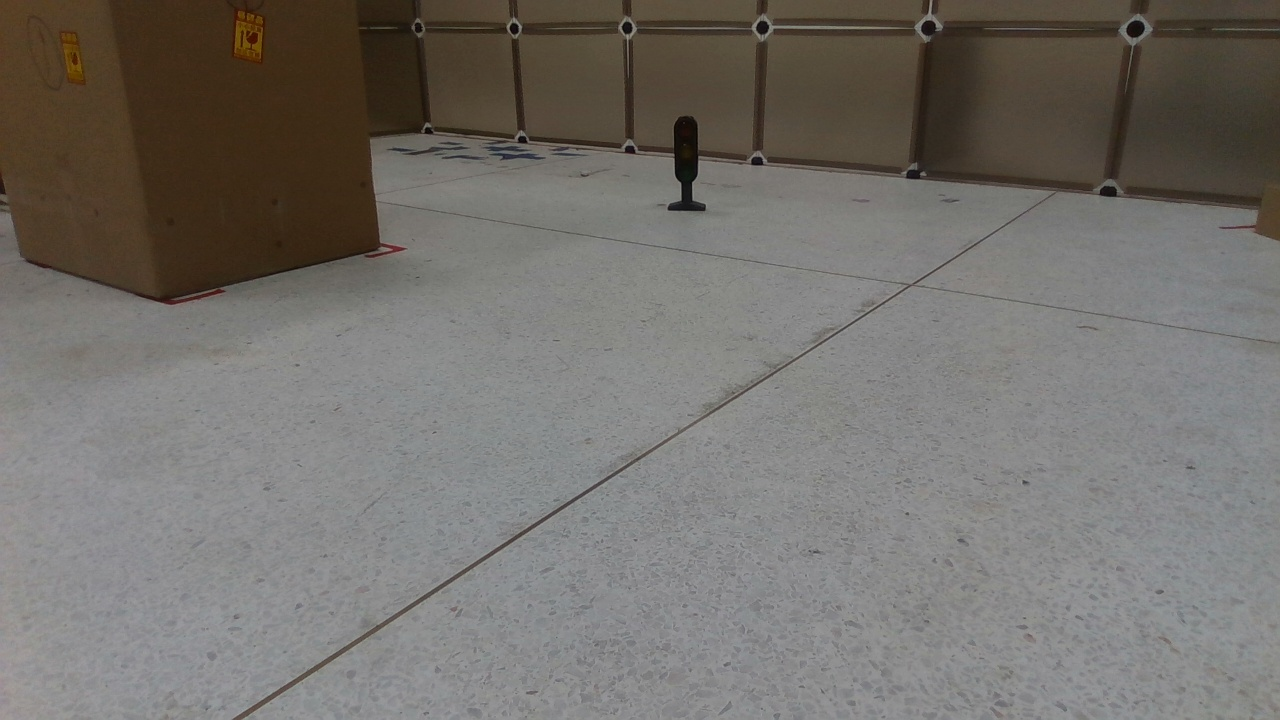Dim traffic light: (665, 118, 709, 215)
